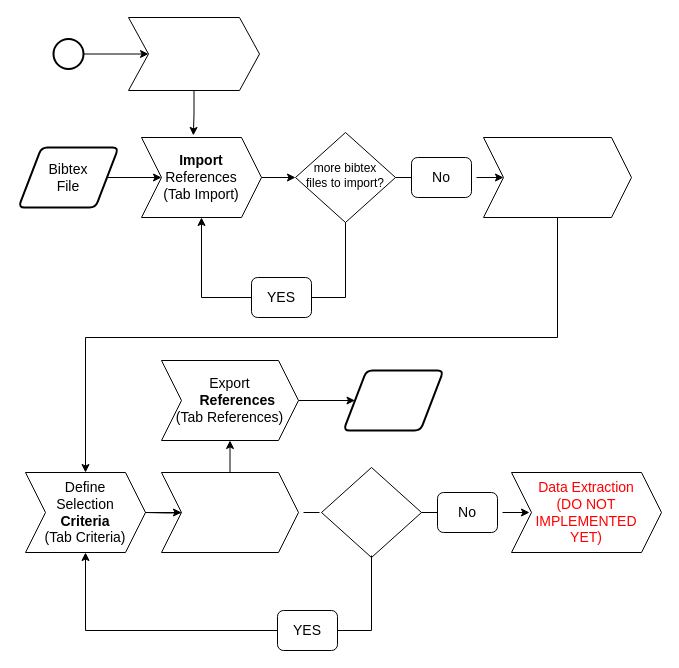
Some shapes in this 679 by 668 pixel diagram are drawn without their labels. The shapes that lost their labels are listed below. From the top down, each one's centre as x and y in pixels, then its label:
point (194, 53): Select or Create (+) Project
point (557, 177): Visualize References (Tab References)
point (393, 400): Excel File
point (229, 512): Select References (Tab References)
point (371, 512): more criteria needed?
